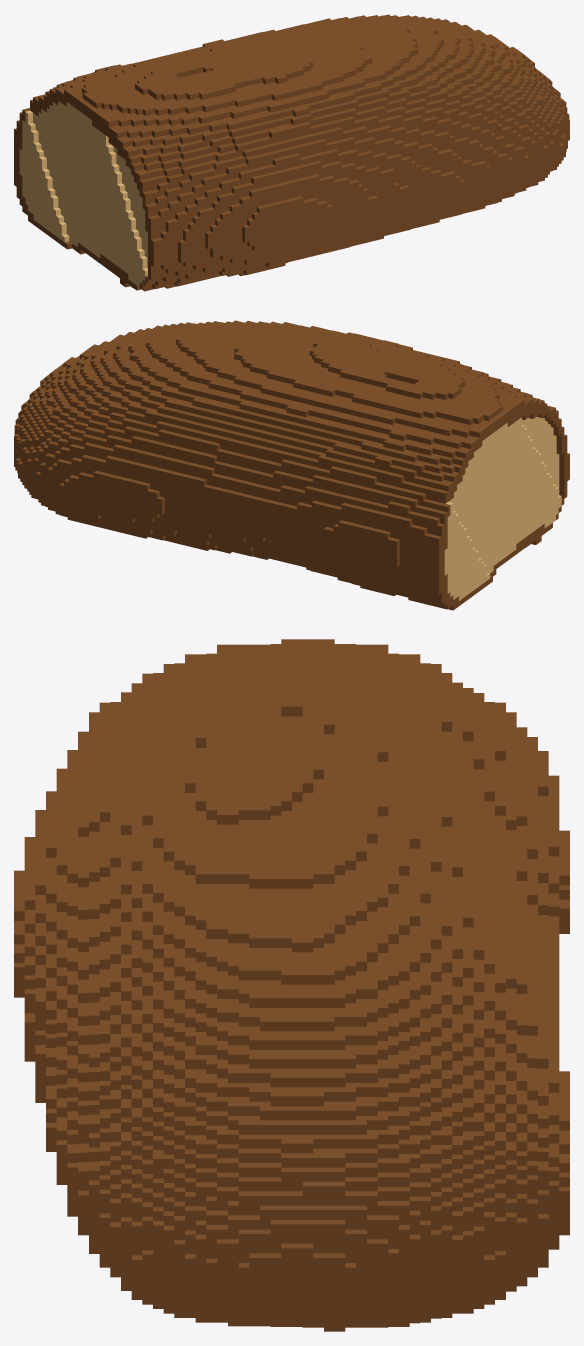
File: Bread Loaf Large.obj
The picture shows the model from 3 angles, top to bottom: view 1: azimuth 30°, elevation 25°; view 2: azimuth 150°, elevation 25°; view 3: azimuth 270°, elevation 25°; orthographic projection. The views are drawn at different scales.
Bounding box in the file's own units: 9.6 × 3.2 × 5.2.
Materials: 1 (1 with a texture image).
